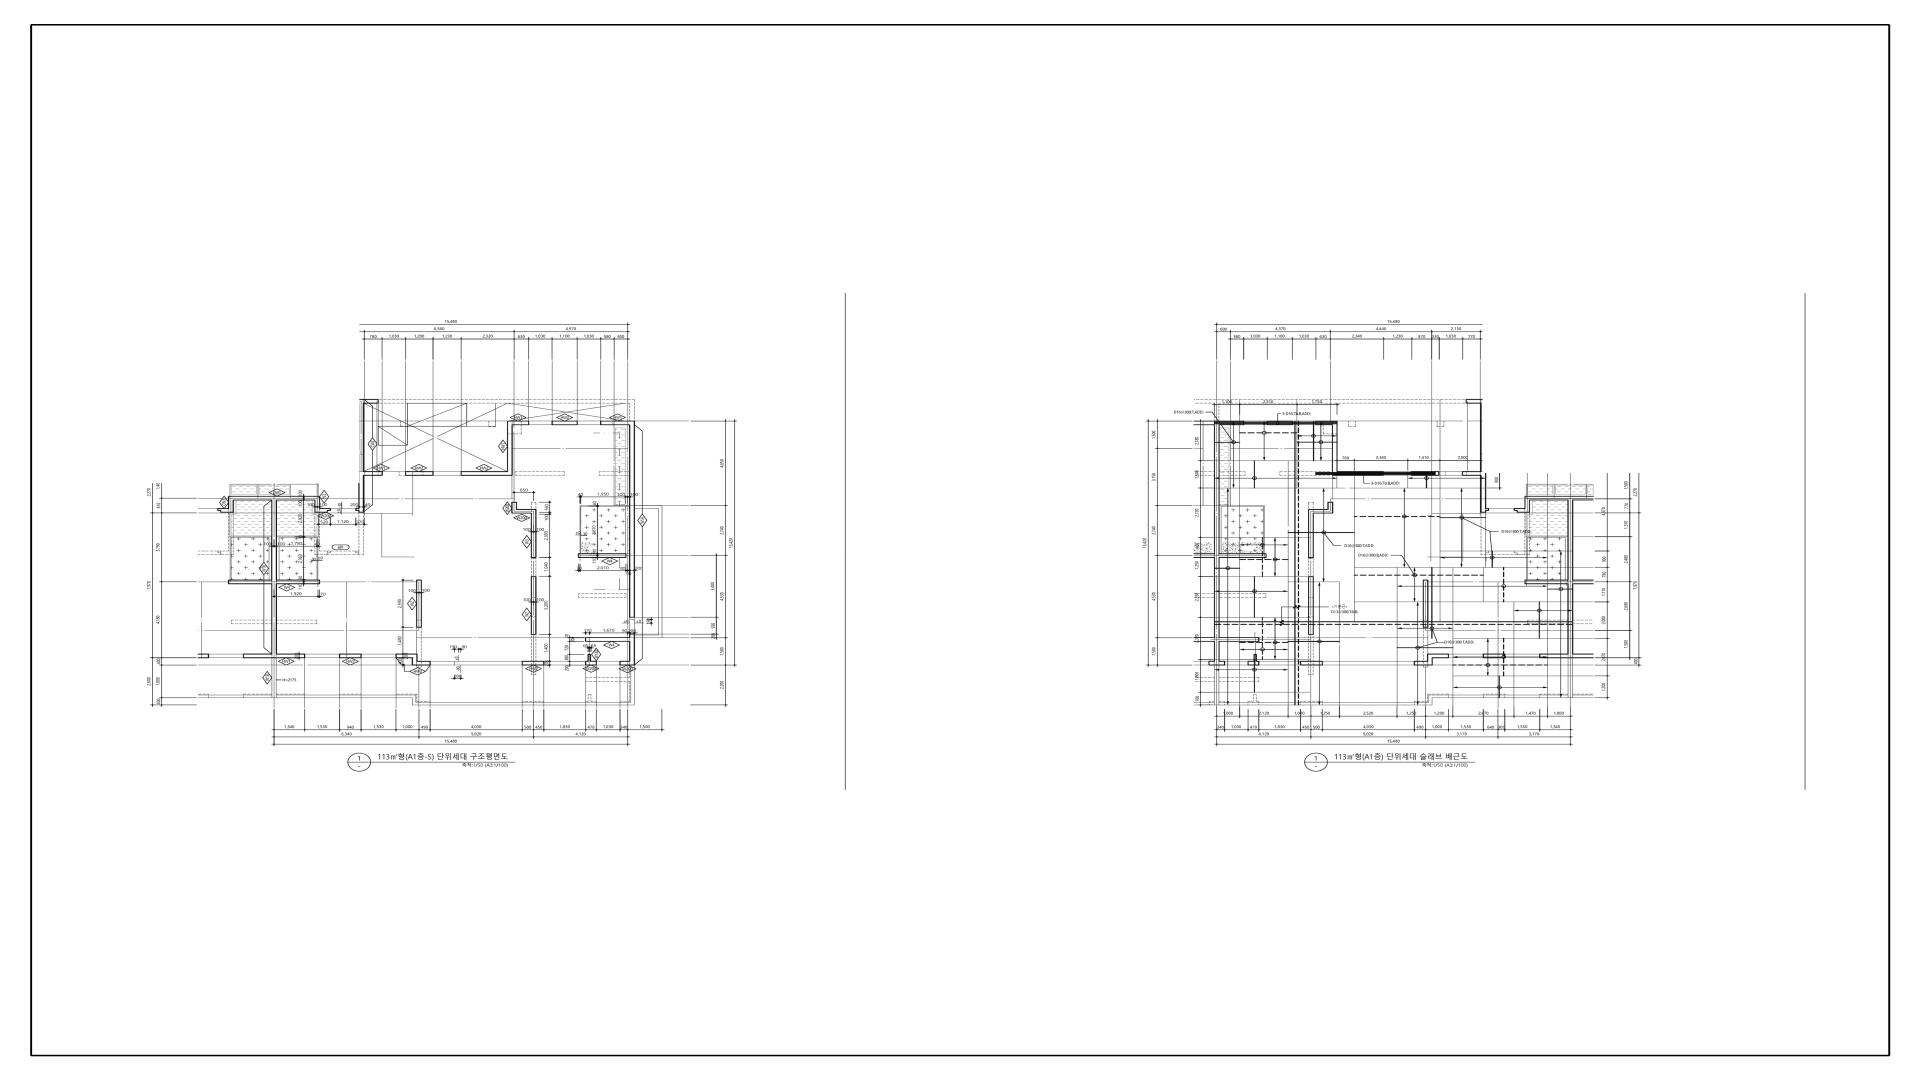wall: (629, 425, 636, 617), (1295, 421, 1299, 621), (1215, 425, 1220, 554), (1423, 621, 1573, 625), (417, 703, 634, 705), (1308, 621, 1423, 625), (272, 500, 277, 580), (1568, 500, 1573, 580), (1215, 621, 1308, 625), (272, 584, 277, 654), (277, 695, 417, 698), (1428, 695, 1568, 698), (1299, 703, 1428, 705), (1215, 558, 1220, 621), (1295, 625, 1299, 705), (531, 576, 537, 634), (360, 400, 364, 471), (460, 471, 513, 476), (1480, 471, 1486, 513), (1332, 471, 1383, 476), (1308, 509, 1313, 558), (417, 580, 422, 628), (1332, 425, 1337, 472), (508, 425, 513, 471), (531, 513, 537, 558), (1308, 576, 1313, 621), (585, 637, 629, 642), (277, 496, 320, 501), (1423, 580, 1428, 621), (272, 658, 277, 698), (1568, 658, 1573, 698), (1215, 666, 1220, 705), (1220, 637, 1259, 642), (1220, 703, 1295, 705), (359, 476, 364, 513), (198, 695, 272, 698), (1568, 584, 1573, 621), (578, 554, 626, 558), (1220, 554, 1267, 558), (228, 580, 272, 584), (277, 580, 320, 584), (1524, 580, 1568, 584), (629, 637, 636, 661), (405, 471, 434, 476), (1411, 471, 1440, 476), (1568, 625, 1573, 654), (233, 496, 272, 500), (1530, 496, 1568, 500), (630, 666, 634, 703), (600, 421, 636, 425), (359, 471, 382, 476), (522, 661, 545, 666), (1300, 661, 1323, 666), (243, 654, 272, 658), (1539, 654, 1568, 658), (1193, 637, 1215, 642), (277, 654, 305, 658), (551, 421, 578, 425), (411, 661, 431, 666), (1414, 661, 1433, 666), (512, 509, 537, 513), (1220, 421, 1245, 425), (1267, 421, 1292, 425), (1215, 642, 1220, 661), (1462, 471, 1480, 476), (1524, 496, 1530, 513), (1208, 661, 1225, 666), (339, 654, 361, 658), (1484, 654, 1506, 658), (508, 421, 529, 425), (620, 661, 636, 666), (218, 508, 233, 513), (1193, 421, 1215, 425), (1316, 421, 1337, 425), (1573, 496, 1594, 500), (1573, 580, 1594, 584), (1573, 654, 1594, 658), (1193, 554, 1215, 558), (1313, 509, 1333, 513), (1432, 654, 1449, 658), (315, 501, 320, 513), (585, 661, 597, 666), (396, 654, 411, 658), (228, 496, 233, 508), (1466, 400, 1482, 404), (1215, 625, 1220, 637), (1247, 661, 1259, 666), (364, 400, 378, 404), (320, 508, 331, 513), (1514, 508, 1524, 513), (1193, 703, 1215, 705), (1308, 625, 1313, 636), (1573, 695, 1593, 698), (1315, 472, 1332, 475), (411, 654, 418, 661), (1427, 654, 1433, 661), (512, 502, 517, 509), (1328, 502, 1333, 509), (413, 698, 417, 705), (1428, 698, 1432, 705), (1215, 637, 1220, 642), (1213, 421, 1220, 425), (272, 654, 277, 658), (272, 580, 277, 584), (272, 496, 277, 500), (1568, 496, 1573, 500), (1568, 580, 1573, 584), (1568, 654, 1573, 658), (1215, 554, 1220, 558), (629, 634, 636, 637), (588, 654, 591, 661), (1254, 654, 1257, 661), (1423, 625, 1428, 628), (1486, 508, 1489, 510)
